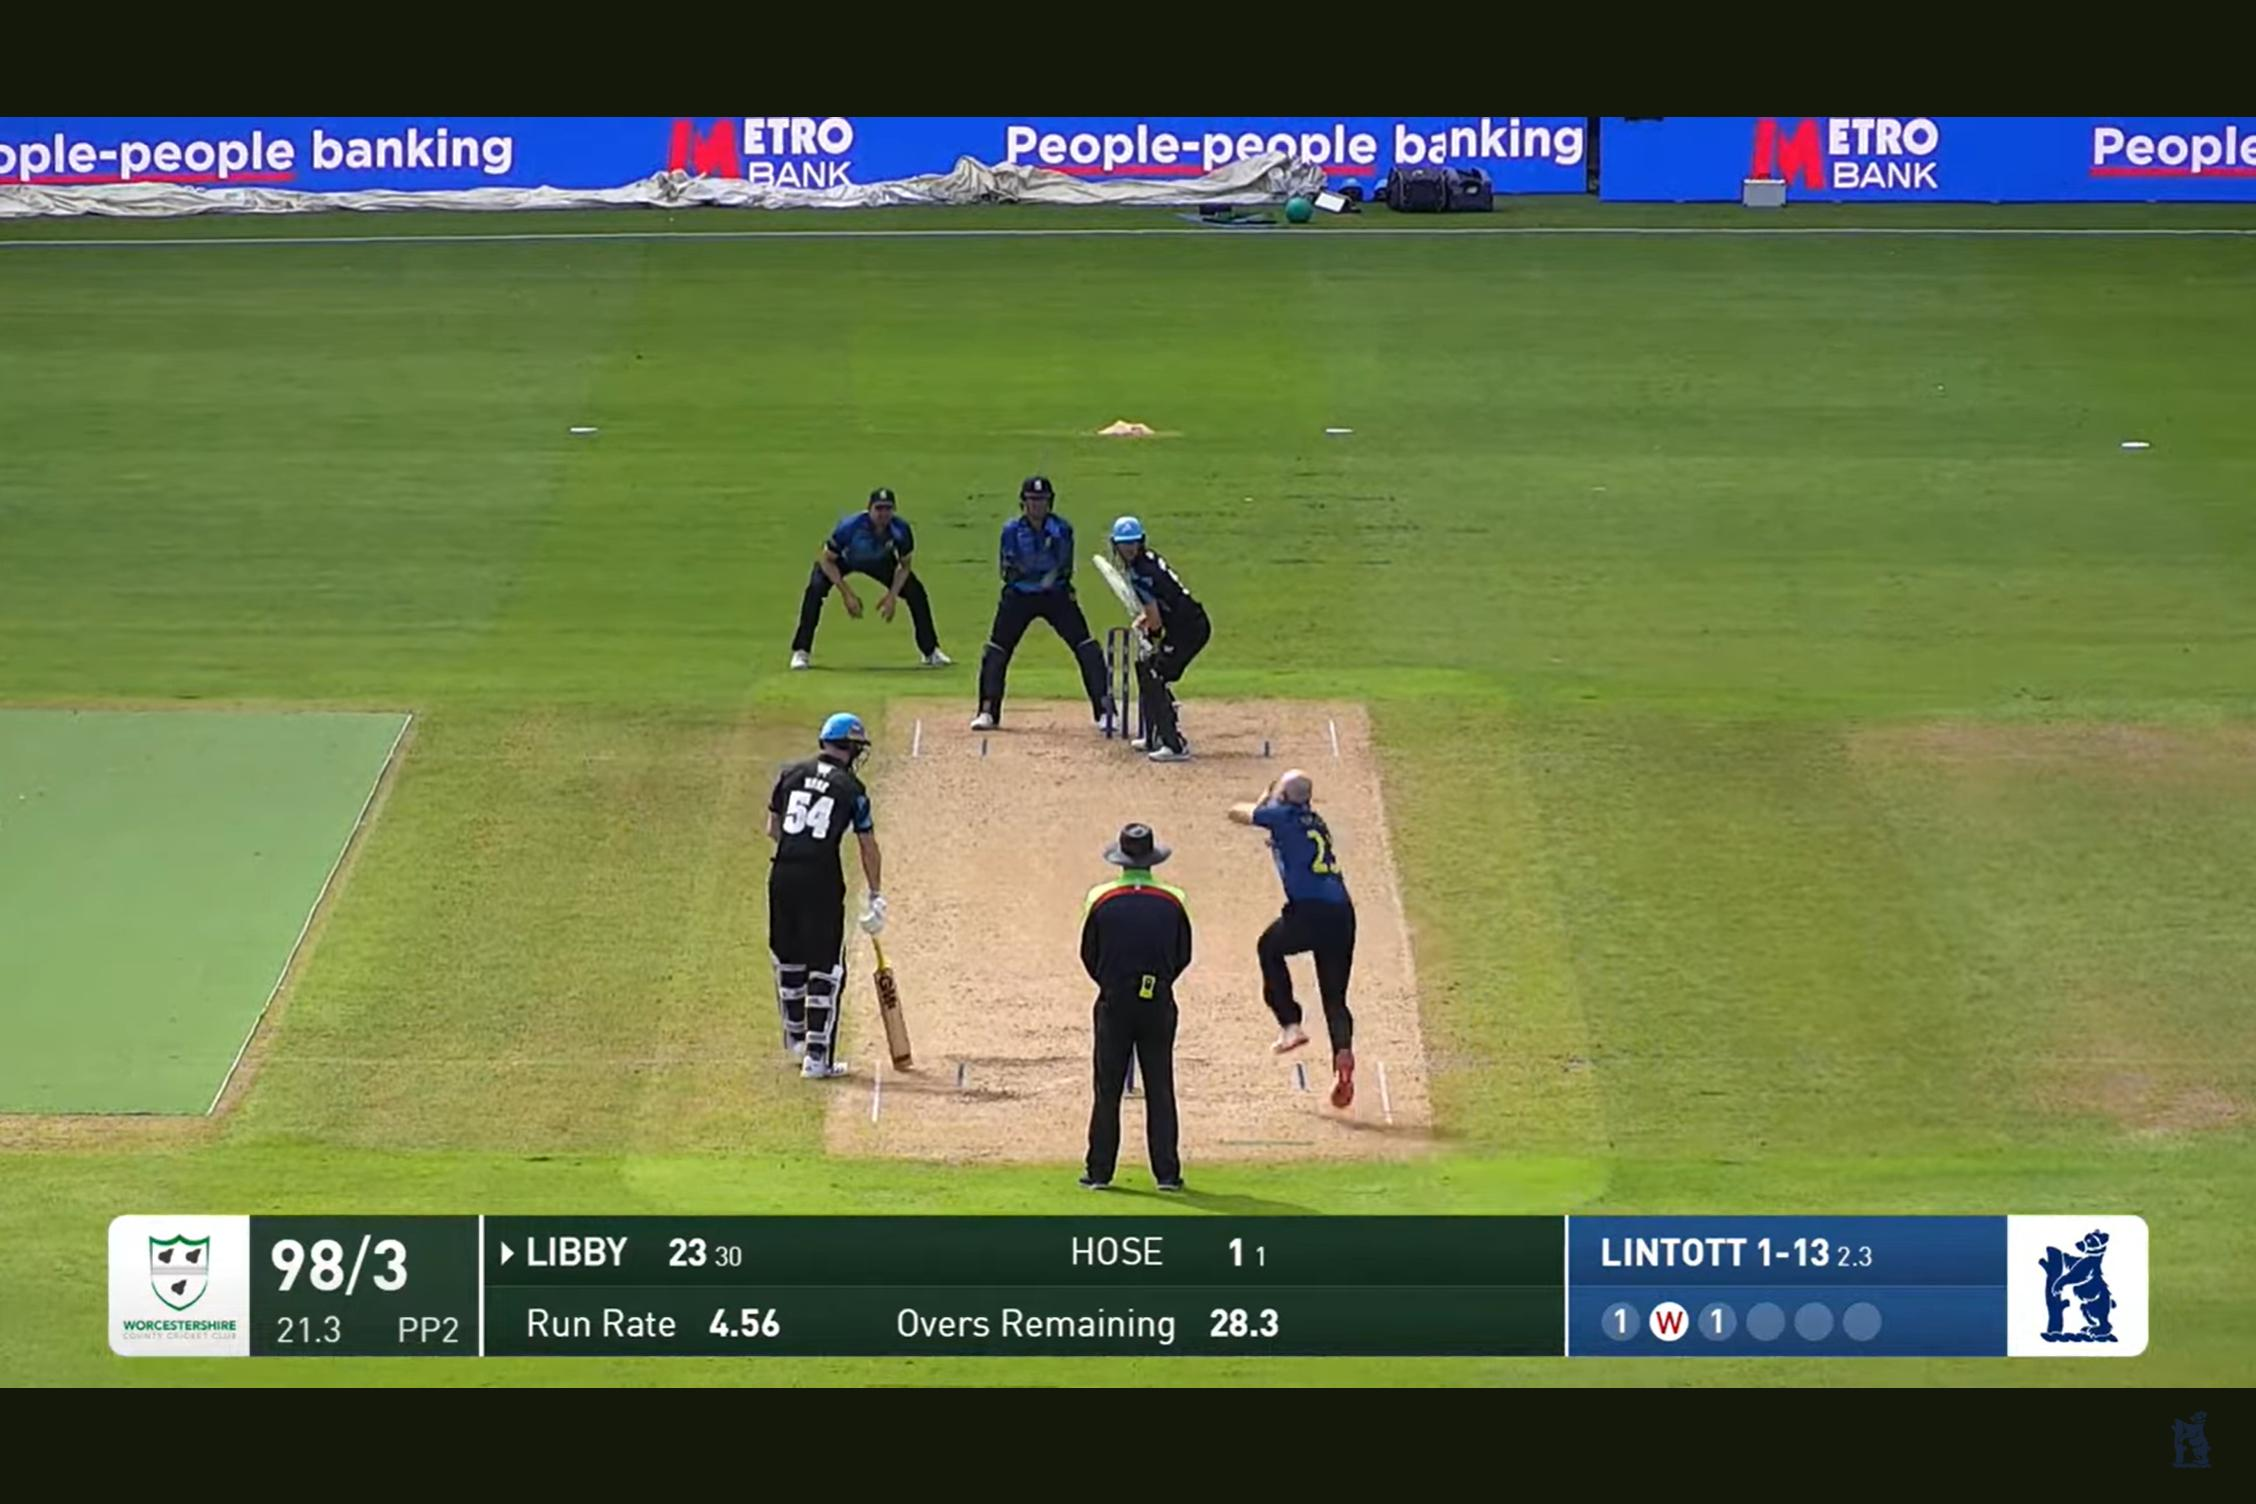bowler running in: (1230, 744, 1393, 1118)
non striker: (728, 688, 952, 1104)
umpire: (1047, 801, 1197, 1214)
wicket keeper: (969, 452, 1120, 735)
